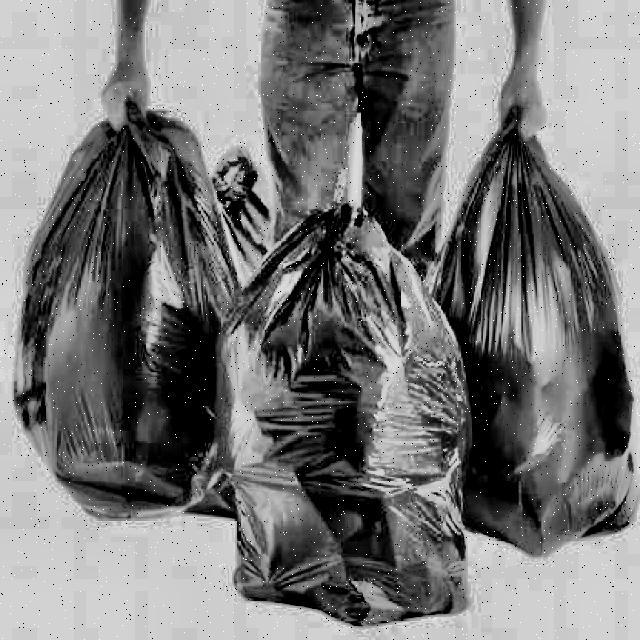Trashbag: (225, 206, 465, 623), (12, 115, 232, 526), (433, 136, 640, 566)
